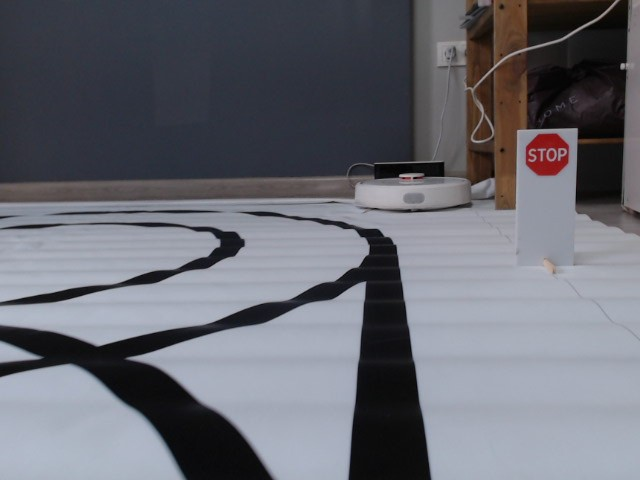Stop: (523, 132, 570, 177)
